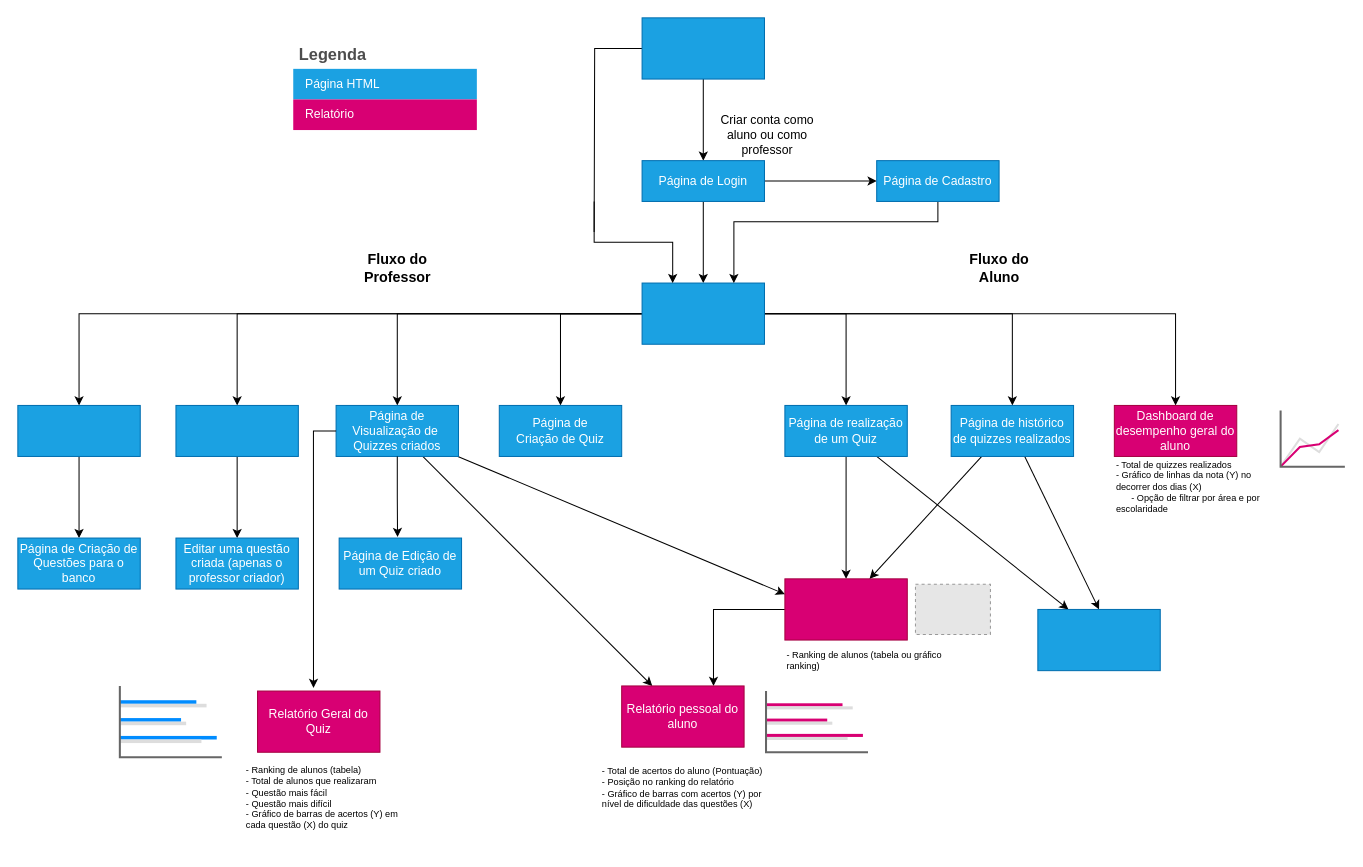
Some shapes in this 1363 by 867 pixel diagram are drawn without their labels. Grey dashed boxes stand in for pictures. The shapes that lost their labels are listed below. From the top down, each one's centre as x and y in pixels, then its label:
At point (702, 48): "INDEX HTML (Página inicial)".
At point (702, 313): "Página principal (Cards de quizzes)".
At point (78, 430): "Página de Banco completo de Questões (por área)".
At point (236, 430): "Página de Gerenciamento de questões criadas".
At point (845, 609): "Ranking de alunos (pontuação)".
At point (1098, 639): "Revisão de Questões acertadas e erradas (histórico)".
